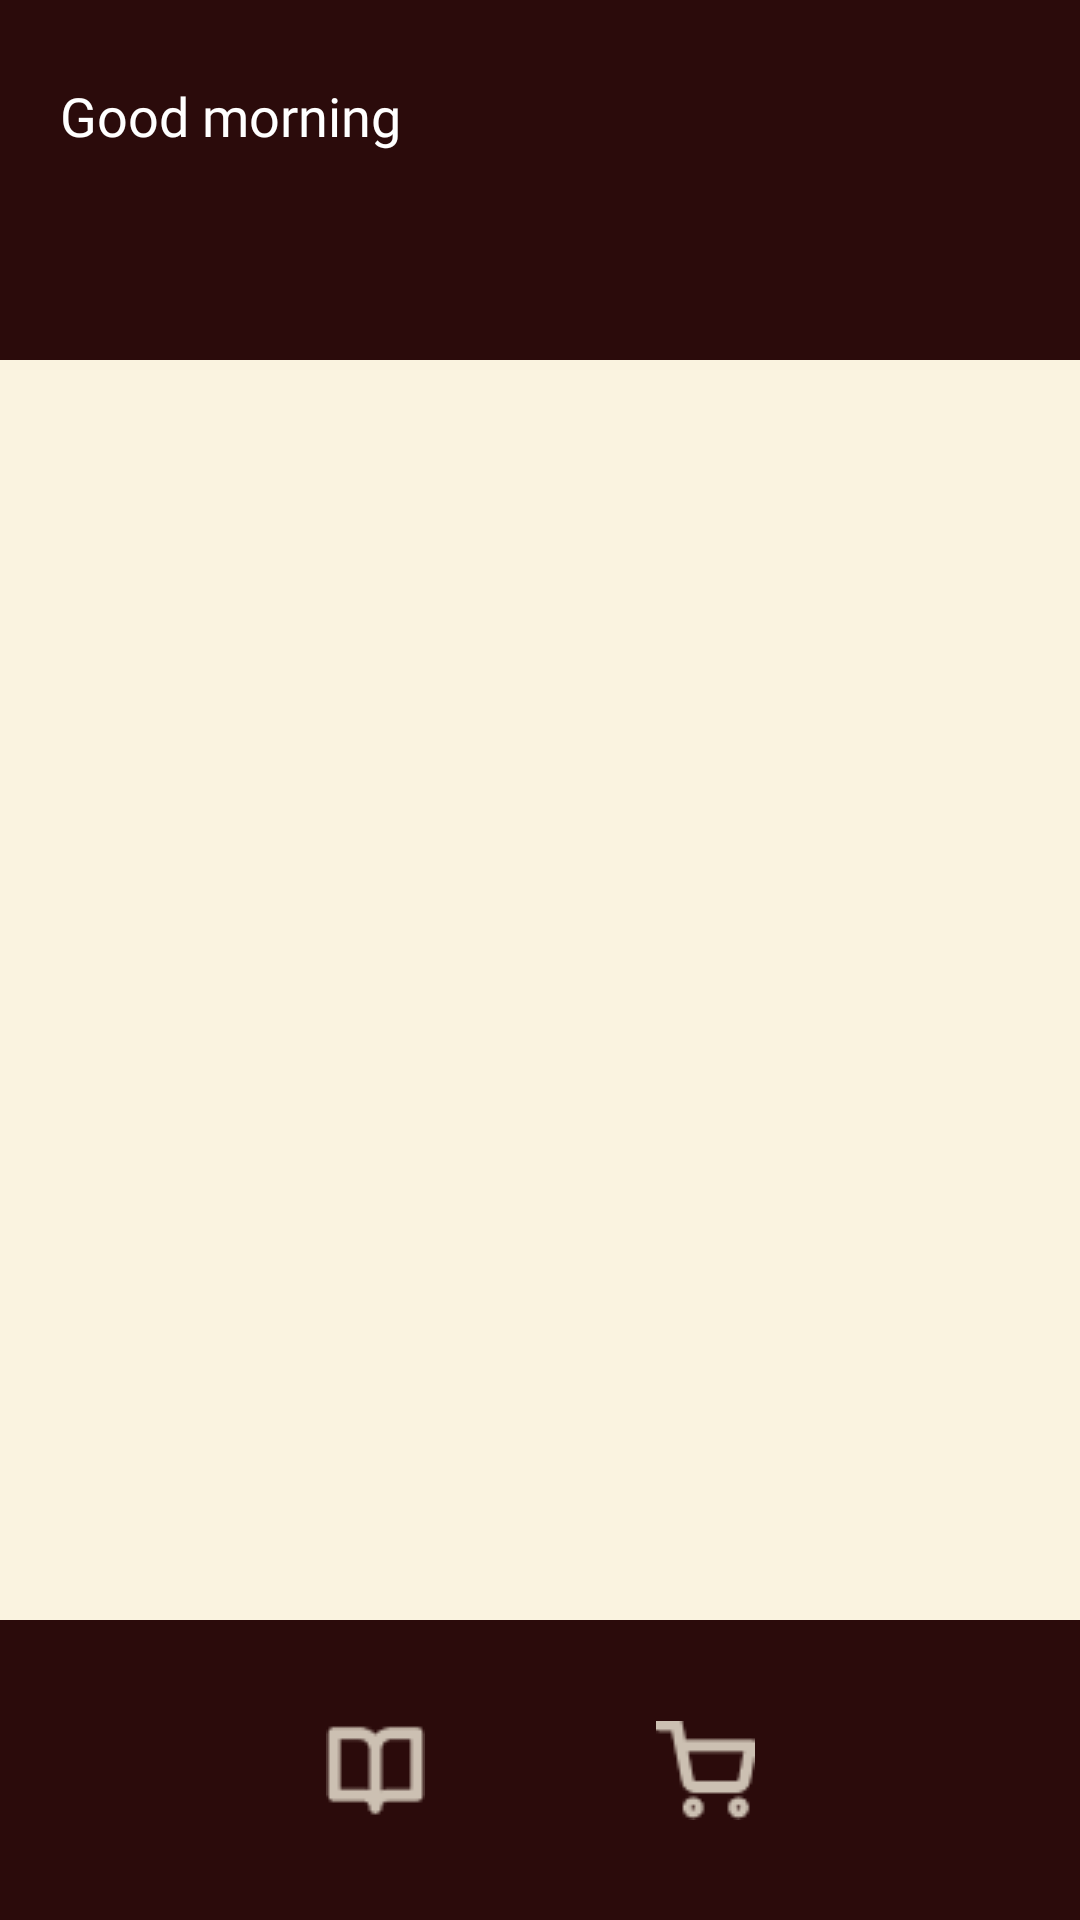

Locate icon controls on the screen. Image size 1080w x 1920h, boxes as (x1, y1, x2, y2).
Cart: (656, 1721, 755, 1820)
